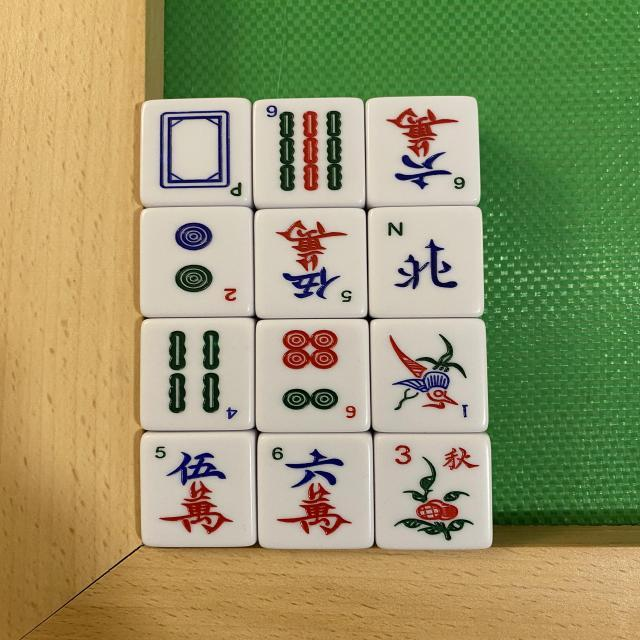bs3: (374, 429, 492, 548)
hdw: (137, 99, 246, 208)
hwn: (369, 208, 482, 319)
sb1: (372, 323, 485, 438)
sb4: (140, 316, 256, 430)
sb9: (252, 98, 363, 207)
sc5: (140, 436, 258, 545), (258, 211, 370, 320)
sc6: (260, 434, 375, 552), (368, 96, 480, 206)
sd2: (136, 208, 248, 320)
sd6: (254, 323, 366, 438)
